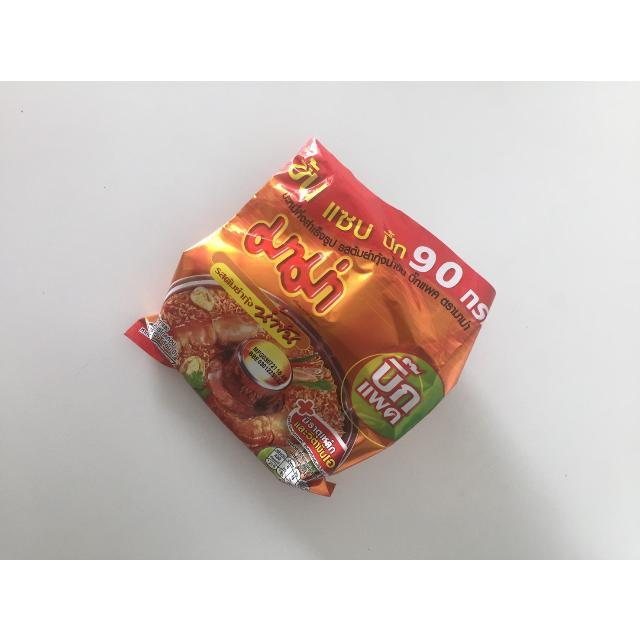Paquete de plastico: (135, 135, 508, 500)
